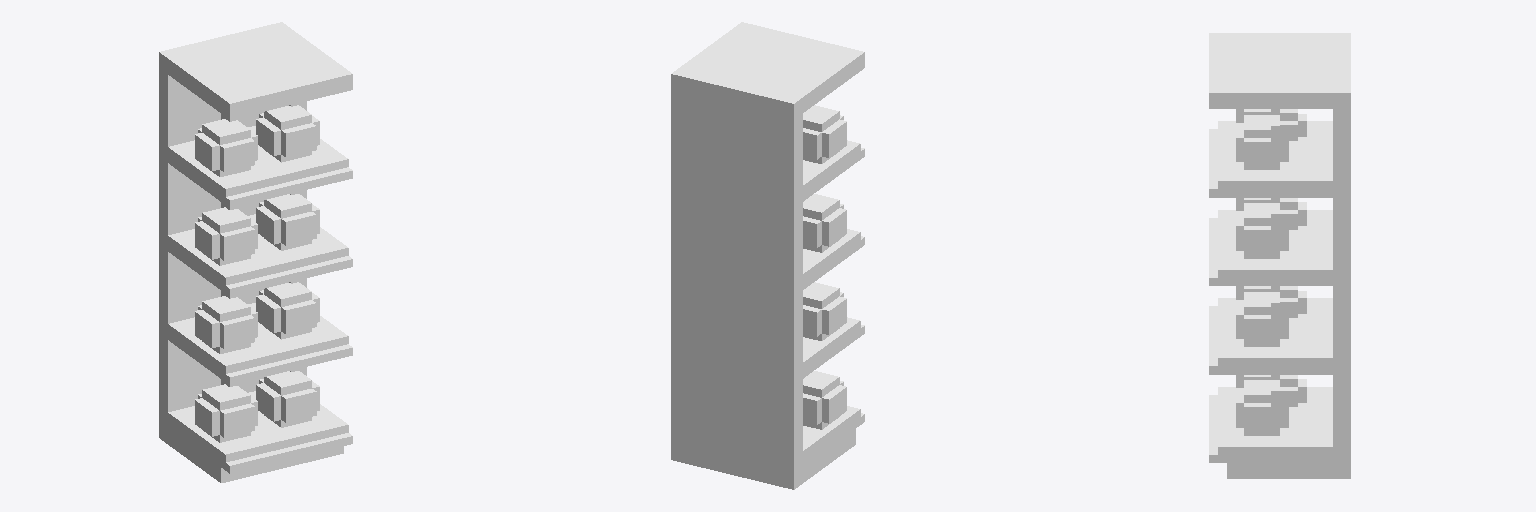
File: fullMeatShelf.obj
3 renders of one model, left to right at view 1: azimuth 30°, elevation 25°; view 2: azimuth 150°, elevation 25°; view 3: azimuth 270°, elevation 25°, orthographic.
Parts seen in each view (by area): view 1: object 1; view 2: object 1; view 3: object 1.
Part boxes in pixels (bbox=[...]): object 1: bbox=[159, 22, 352, 482]; object 1: bbox=[671, 22, 864, 489]; object 1: bbox=[1209, 33, 1350, 478].
Size of the model in its own units: 1.6 by 4.8 by 1.6.